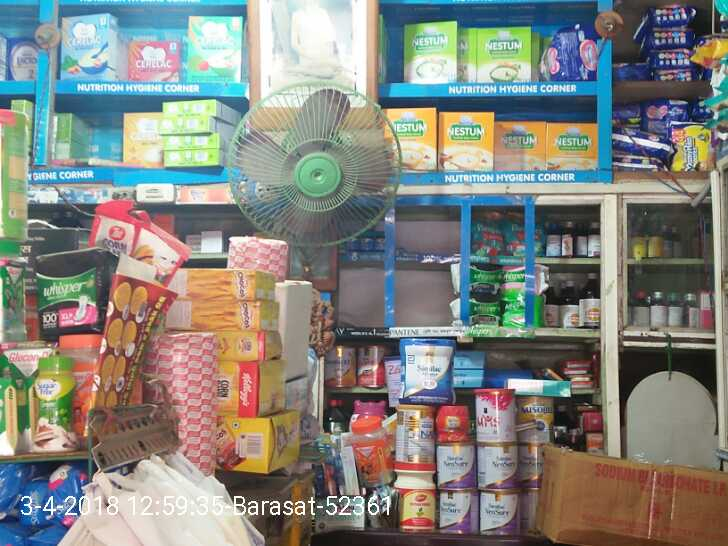vicks: (338, 230, 386, 249)
